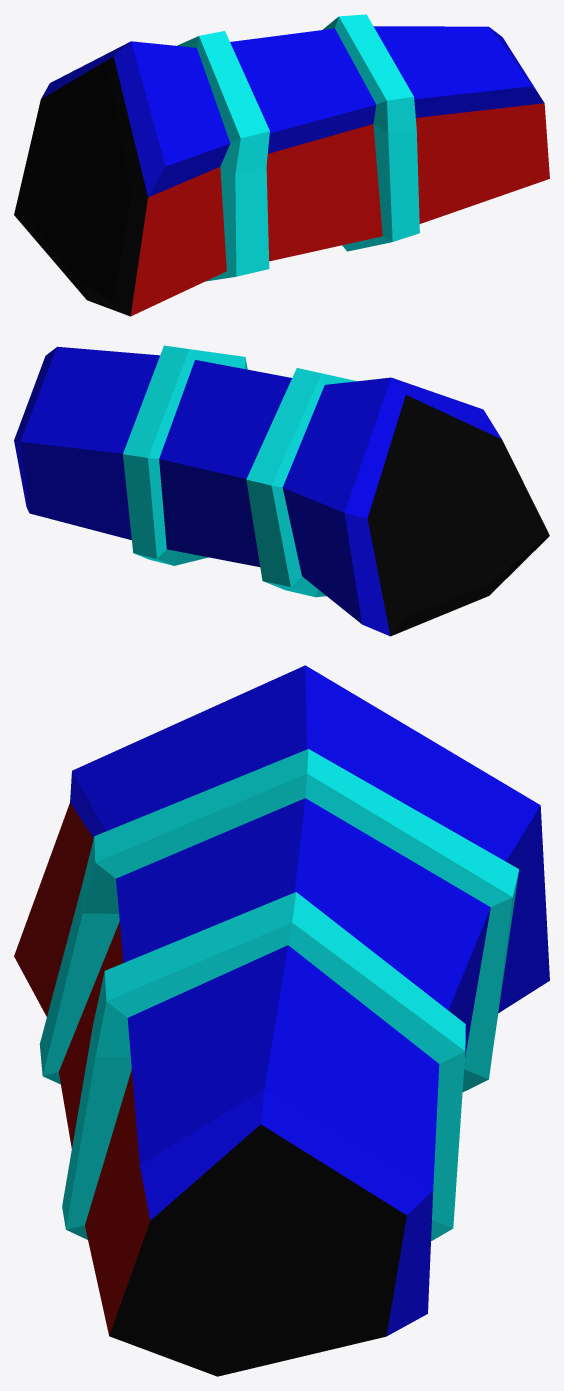
The model's file is Chr_ArmUpperLeft_Male_Static_07.fbx.
3 renders of one model, top to bottom at view 1: azimuth 30°, elevation 25°; view 2: azimuth 150°, elevation 25°; view 3: azimuth 270°, elevation 25°, orthographic. The views are drawn at different scales.
Parts seen in each view (by area): view 1: Chr_ArmUpperLeft_Male_07; view 2: Chr_ArmUpperLeft_Male_07; view 3: Chr_ArmUpperLeft_Male_07.
Part boxes in pixels (x1,y1,x2,y2): Chr_ArmUpperLeft_Male_07: (14, 14, 549, 316); Chr_ArmUpperLeft_Male_07: (14, 345, 549, 636); Chr_ArmUpperLeft_Male_07: (14, 665, 549, 1376).
Bounding box in the file's own units: 33.07 × 16.7 × 18.32.
